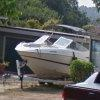Boat: (12, 29, 100, 87)
